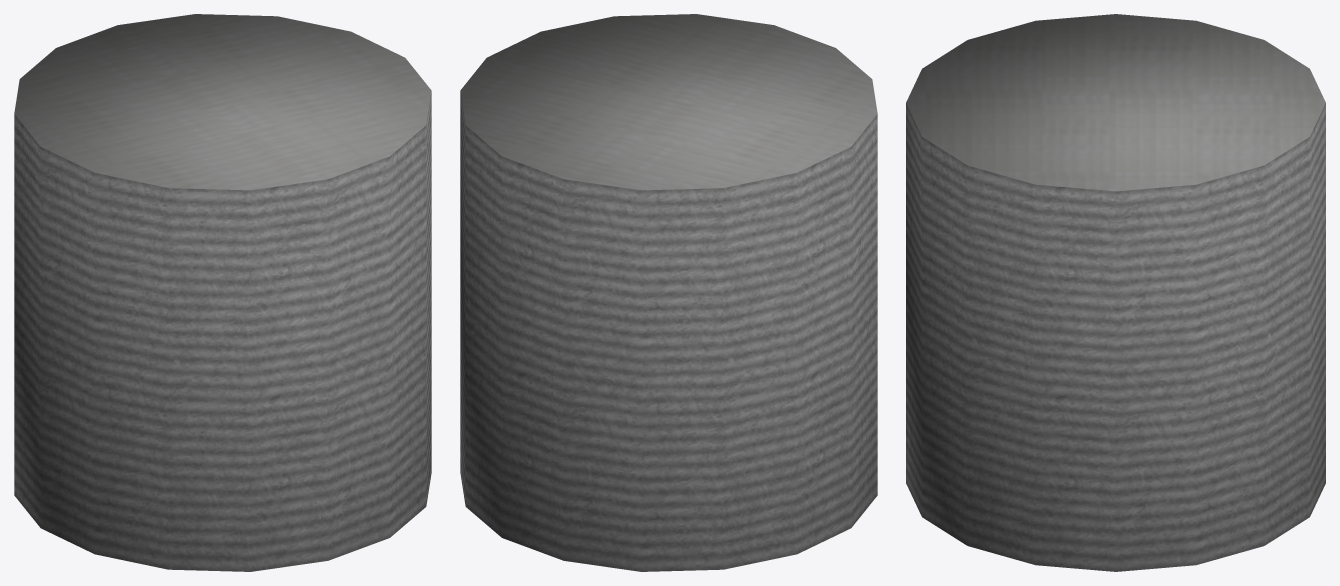
File: water-tank-corrigated-3x2-cbj_LOD02.gltf
3 renders of one model, left to right at view 1: azimuth 30°, elevation 25°; view 2: azimuth 150°, elevation 25°; view 3: azimuth 270°, elevation 25°, orthographic.
Visible parts, largest first — view 1: Cylinder02; view 2: Cylinder02; view 3: Cylinder02.
Boxes of the visible parts, x1,y1,x2,y2 form: Cylinder02: (14,14,431,571); Cylinder02: (460,14,877,571); Cylinder02: (906,14,1325,571).
Size of the model in its own units: 3.2 by 3.2 by 3.2.
